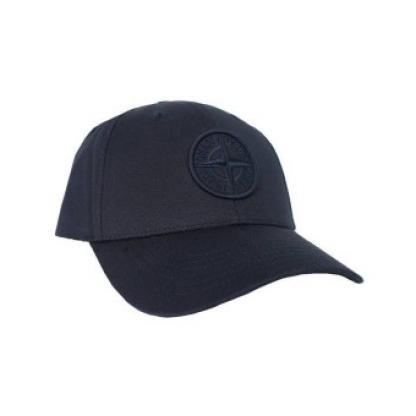cap: (47, 90, 374, 320)
